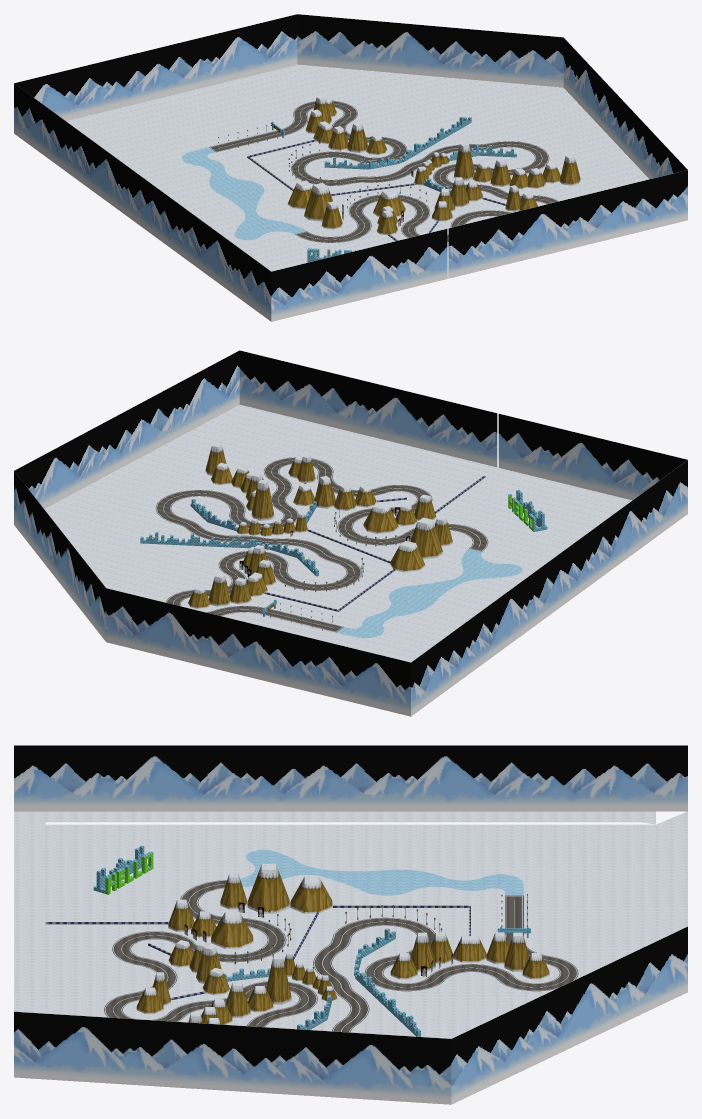
3 views of the same model, one above another, from view 1: azimuth 30°, elevation 25°; view 2: azimuth 150°, elevation 25°; view 3: azimuth 270°, elevation 25° (orthographic). The views are drawn at different scales.
Parts seen in each view (by area): view 1: ende_c_Komponente_4-cvbn, ende_c_Komponente_4-Farbe_A01, ende_c_Komponente_4-2_3, ende_c_Komponente_5-Farbe_A01, ende_c_Komponente_4-Bodenbelag_Sand_fein, ende_c_Komponente_4-Wood_Board_Cork1, ende_c_Komponente_4-1_22, ende_c_Komponente_4-Groundcover_Sand_Smooth1, ende_c_Komponente_4-wall, ende_c_Komponente_4-Farbe_000; view 2: ende_c_Komponente_4-cvbn, ende_c_Komponente_4-Farbe_A01, ende_c_Komponente_4-2_3, ende_c_Komponente_4-Bodenbelag_Sand_fein, ende_c_Komponente_5-Farbe_A01, ende_c_Komponente_4-Wood_Board_Cork1, ende_c_Komponente_4-1_22, ende_c_Komponente_4-Groundcover_Sand_Smooth1, ende_c_Komponente_4-wall, ende_c_Komponente_4-Farbe_000; view 3: ende_c_Komponente_4-cvbn, ende_c_Komponente_4-Farbe_A01, ende_c_Komponente_5-Farbe_A01, ende_c_Komponente_4-2_3, ende_c_Komponente_4-Bodenbelag_Sand_fein, ende_c_Komponente_4-Wood_Board_Cork1, ende_c_Komponente_4-1_22, ende_c_Komponente_4-Groundcover_Sand_Smooth1, ende_c_Komponente_4-wall, ende_c_Komponente_4-Farbe_000, ende_c_Komponente_5-1_6, ende_c_Komponente_5-1_22.
Boxes of the visible parts, box(x1,y1,x2,y2) form: ende_c_Komponente_4-cvbn: box(14, 14, 687, 321); ende_c_Komponente_4-Farbe_A01: box(78, 75, 628, 271); ende_c_Komponente_4-2_3: box(287, 97, 580, 235); ende_c_Komponente_5-Farbe_A01: box(66, 64, 648, 278); ende_c_Komponente_4-Bodenbelag_Sand_fein: box(209, 100, 558, 242); ende_c_Komponente_4-Wood_Board_Cork1: box(182, 147, 306, 240); ende_c_Komponente_4-1_22: box(324, 116, 516, 193); ende_c_Komponente_4-Groundcover_Sand_Smooth1: box(210, 101, 558, 242); ende_c_Komponente_4-wall: box(247, 139, 506, 240); ende_c_Komponente_4-Farbe_000: box(218, 103, 552, 239); ende_c_Komponente_4-cvbn: box(14, 350, 687, 716); ende_c_Komponente_4-Farbe_A01: box(54, 419, 618, 662); ende_c_Komponente_4-2_3: box(188, 445, 452, 608); ende_c_Komponente_4-Bodenbelag_Sand_fein: box(155, 457, 488, 632); ende_c_Komponente_5-Farbe_A01: box(44, 404, 631, 520); ende_c_Komponente_4-Wood_Board_Cork1: box(336, 548, 522, 638); ende_c_Komponente_4-1_22: box(140, 499, 318, 576); ende_c_Komponente_4-Groundcover_Sand_Smooth1: box(156, 457, 487, 631); ende_c_Komponente_4-wall: box(264, 475, 485, 611); ende_c_Komponente_4-Farbe_000: box(163, 460, 480, 628); ende_c_Komponente_4-cvbn: box(14, 745, 687, 1104); ende_c_Komponente_4-Farbe_A01: box(45, 824, 656, 1038); ende_c_Komponente_5-Farbe_A01: box(14, 811, 687, 1013); ende_c_Komponente_4-2_3: box(136, 864, 549, 1024); ende_c_Komponente_4-Bodenbelag_Sand_fein: box(104, 880, 578, 1032); ende_c_Komponente_4-Wood_Board_Cork1: box(240, 849, 523, 895); ende_c_Komponente_4-1_22: box(224, 928, 420, 1036); ende_c_Komponente_4-Groundcover_Sand_Smooth1: box(105, 880, 577, 1032); ende_c_Komponente_4-wall: box(45, 905, 470, 1000); ende_c_Komponente_4-Farbe_000: box(113, 884, 569, 1031); ende_c_Komponente_5-1_6: box(105, 852, 153, 894); ende_c_Komponente_5-1_22: box(93, 845, 152, 893).
Size of the model in its own units: 95562 by 10227 by 92757.
Materials: 21 (21 with a texture image).
